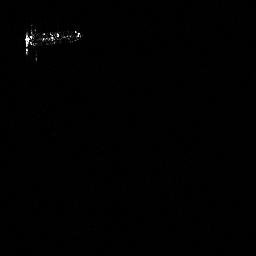ship: (21, 20, 84, 57)
